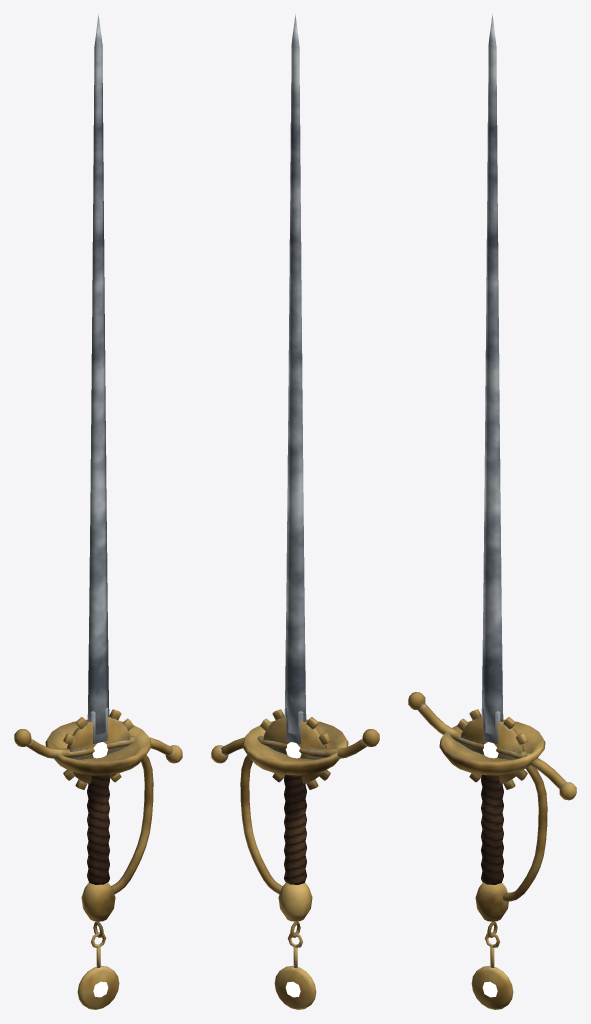
File: PendulumRapier.fbx
3 renders of one model, left to right at view 1: azimuth 30°, elevation 25°; view 2: azimuth 150°, elevation 25°; view 3: azimuth 330°, elevation 25°, orthographic.
Visible parts, largest first — view 1: PendulumRapier; view 2: PendulumRapier; view 3: PendulumRapier.
Part boxes in pixels (bbox=[...]): PendulumRapier: bbox=[14, 14, 182, 1009]; PendulumRapier: bbox=[211, 14, 379, 1009]; PendulumRapier: bbox=[408, 14, 576, 1009].
Size of the model in its own units: 0.2488 by 1.42 by 0.138.
